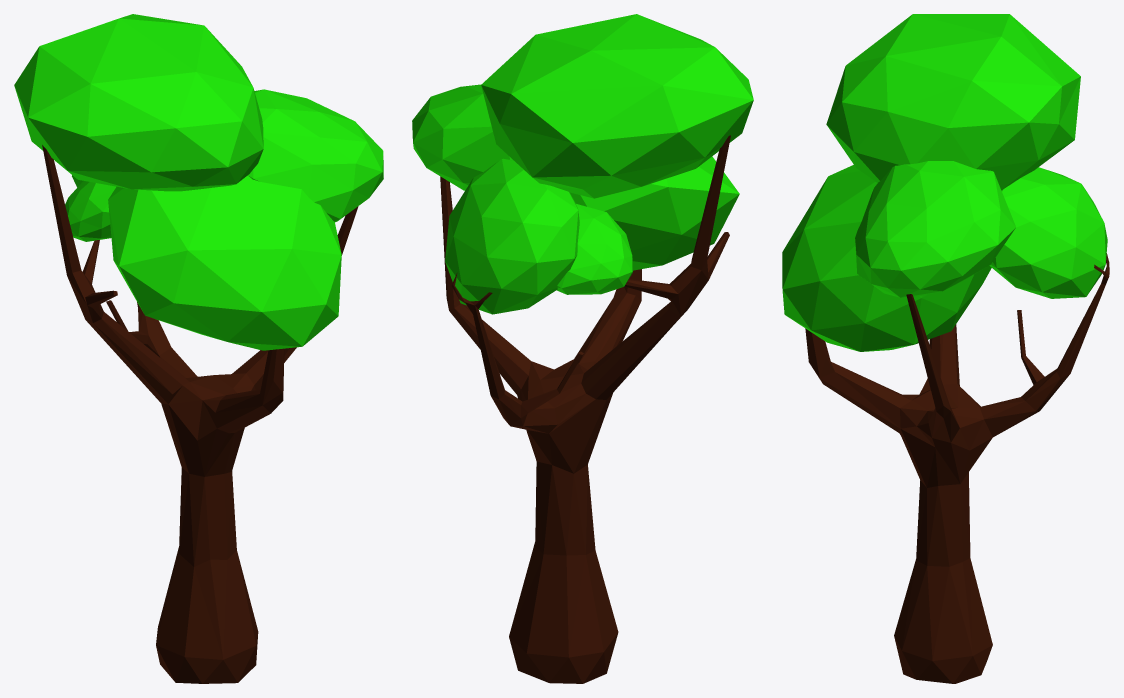
Rendered from lowpoly tree.dae.
3 views of the same model, side by side, from view 1: azimuth 30°, elevation 25°; view 2: azimuth 150°, elevation 25°; view 3: azimuth 270°, elevation 25° (orthographic). The views are drawn at different scales.
Parts seen in each view (by area): view 1: lowpoly tree; view 2: lowpoly tree; view 3: lowpoly tree.
Boxes of the visible parts, box(x1,y1,x2,y2) form: lowpoly tree: box(14, 14, 383, 683); lowpoly tree: box(412, 14, 753, 683); lowpoly tree: box(782, 14, 1109, 683).
Size of the model in its own units: 2.65 by 2.36 by 4.9.
